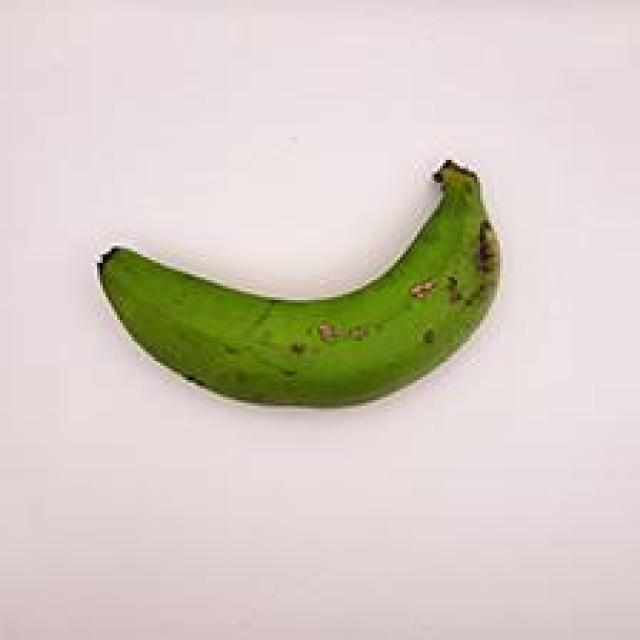Raw: (90, 143, 520, 420)
